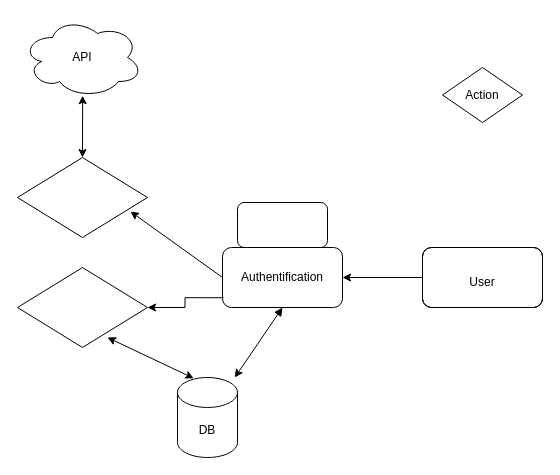
This 560x475 diagram has some shape labels left out. Each missing label, with the box of its shape:
CRUD Personal Book: (16, 266, 148, 348)
Node / express: (236, 202, 328, 248)
Search a book: (16, 156, 148, 238)
